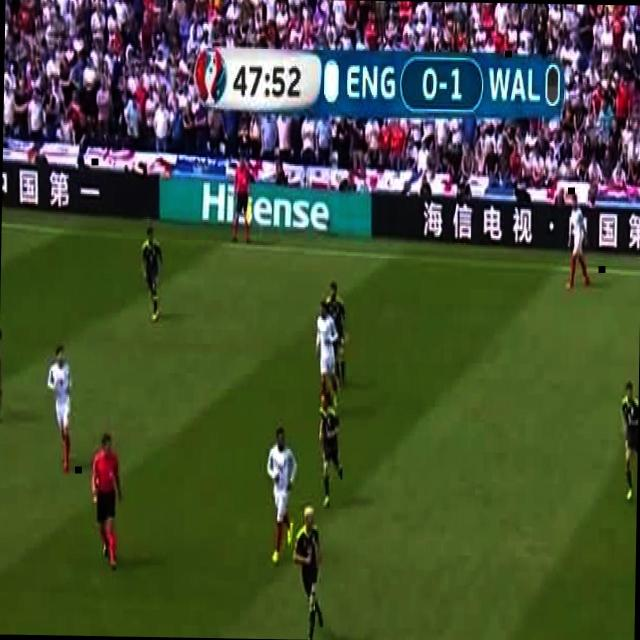player-white: (90, 432, 122, 572), (266, 429, 298, 565), (292, 504, 324, 640), (316, 390, 346, 510), (46, 347, 74, 474), (314, 300, 341, 410), (322, 282, 348, 388), (619, 381, 639, 502), (567, 191, 589, 290), (141, 226, 164, 320), (231, 156, 252, 242)
